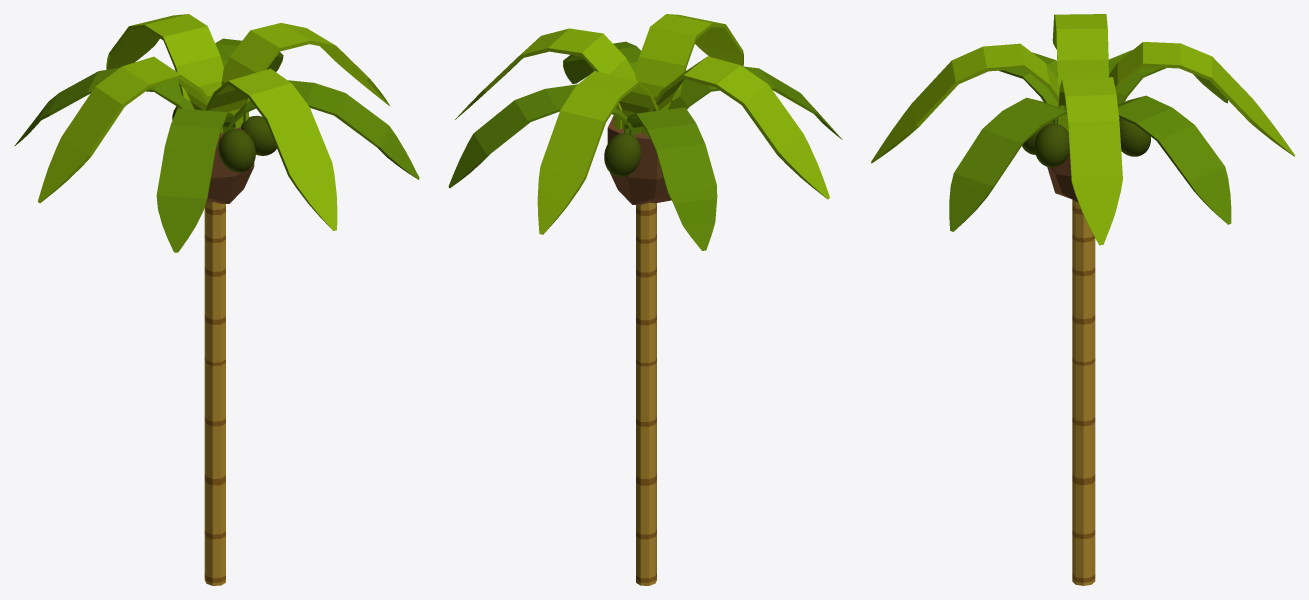
The model's file is palmera01.fbx.
3 renders of one model, left to right at view 1: azimuth 30°, elevation 25°; view 2: azimuth 150°, elevation 25°; view 3: azimuth 270°, elevation 25°, orthographic.
Visible parts, largest first — view 1: palmera01; view 2: palmera01; view 3: palmera01.
Boxes of the visible parts, left/top/right/bottom form: palmera01: left=14, top=14, right=419, bottom=585; palmera01: left=448, top=14, right=842, bottom=585; palmera01: left=871, top=14, right=1294, bottom=585.
Bounding box in the file's own units: 1.43 × 1.44 × 1.99.
